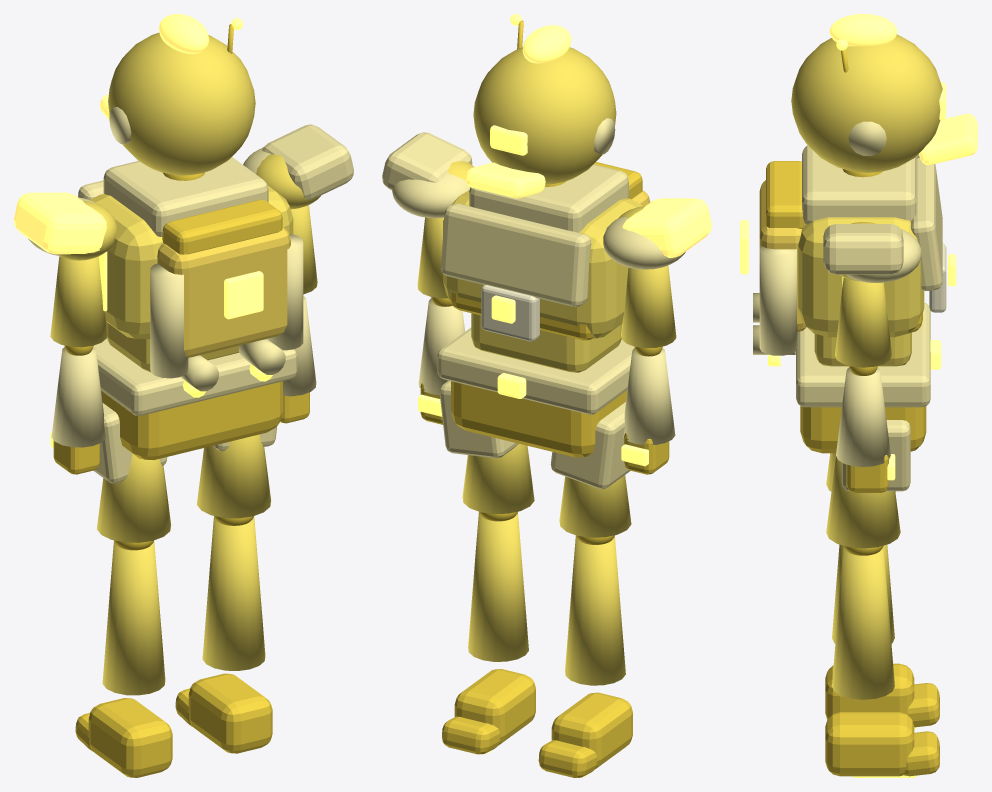
File: skin_duck.glb
3 views of the same model, side by side, from view 1: azimuth 30°, elevation 25°; view 2: azimuth 150°, elevation 25°; view 3: azimuth 270°, elevation 25° (orthographic). The views are drawn at different scales.
Visible parts, largest first — view 1: Helmet, Backpack, Hips, LeftShin, RightShin, Collar, Torso, Belt, RightBoot, LeftBoot, RightLeg, LeftLeg (+20 smaller); view 2: Helmet, ChestPlate, Belt, LeftShin, RightShin, Hips, Torso, Collar, Abdomen, RightLeg, LeftBoot, RightBoot (+22 smaller); view 3: Helmet, RightShin, Torso, Collar, Belt, RightBoot, RightForearm, RightArm, RightLeg, TankR, RightShoulderPad, ChestPlate (+16 smaller).
Boxes of the visible parts, x1=… form: Helmet: x1=108, y1=32, x2=255, y2=175; Backpack: x1=157, y1=227, x2=290, y2=357; Hips: x1=101, y1=381, x2=282, y2=460; LeftShin: x1=102, y1=541, x2=165, y2=695; RightShin: x1=202, y1=517, x2=265, y2=670; Collar: x1=103, y1=157, x2=268, y2=236; Torso: x1=90, y1=186, x2=293, y2=339; Belt: x1=93, y1=338, x2=297, y2=415; RightBoot: x1=188, y1=673, x2=272, y2=753; LeftBoot: x1=88, y1=698, x2=172, y2=777; RightLeg: x1=197, y1=434, x2=271, y2=518; LeftLeg: x1=97, y1=453, x2=170, y2=542; Helmet: x1=473, y1=47, x2=616, y2=184; ChestPlate: x1=441, y1=203, x2=591, y2=306; Belt: x1=437, y1=327, x2=634, y2=414; LeftShin: x1=565, y1=536, x2=625, y2=685; RightShin: x1=468, y1=512, x2=528, y2=661; Hips: x1=451, y1=381, x2=627, y2=457; Torso: x1=443, y1=190, x2=642, y2=338; Collar: x1=469, y1=164, x2=628, y2=232; Abdomen: x1=471, y1=313, x2=622, y2=372; RightLeg: x1=462, y1=444, x2=534, y2=513; LeftBoot: x1=551, y1=692, x2=632, y2=768; RightBoot: x1=454, y1=669, x2=535, y2=744; Helmet: x1=791, y1=34, x2=942, y2=172; RightShin: x1=832, y1=547, x2=894, y2=699; Torso: x1=798, y1=217, x2=924, y2=337; Collar: x1=802, y1=145, x2=916, y2=224; Belt: x1=796, y1=303, x2=930, y2=407; RightBoot: x1=825, y1=712, x2=914, y2=776; RightForearm: x1=836, y1=367, x2=890, y2=466; RightArm: x1=835, y1=277, x2=891, y2=367; RightLeg: x1=826, y1=456, x2=900, y2=548; TankR: x1=759, y1=245, x2=797, y2=355; RightShoulderPad: x1=823, y1=224, x2=903, y2=274; ChestPlate: x1=910, y1=157, x2=942, y2=290.
Size of the model in its own units: 0.8338 by 1.9 by 0.5591.
